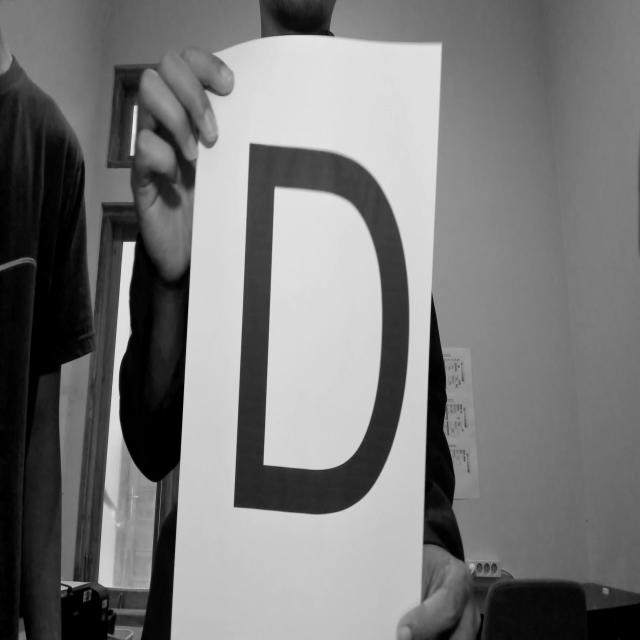d: (221, 114, 421, 544)
